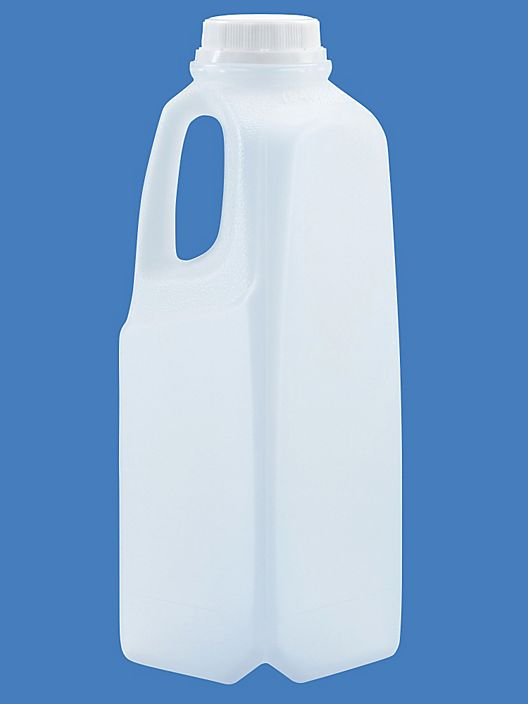Rec_Plastic: (108, 11, 418, 678)
